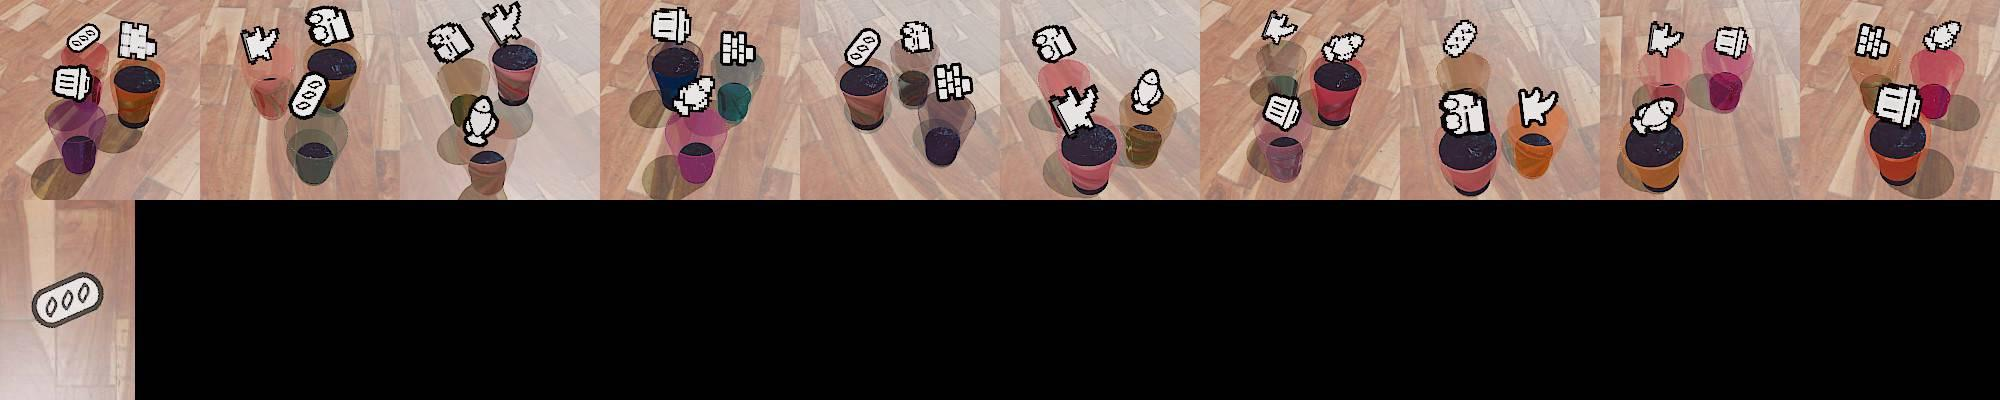icon: (31, 270, 106, 329), (1048, 83, 1099, 136), (1438, 88, 1490, 135), (1875, 83, 1924, 127), (427, 21, 474, 66), (305, 5, 354, 47), (671, 72, 715, 118), (1630, 94, 1679, 134), (481, 2, 523, 47), (463, 94, 499, 145), (289, 72, 328, 119), (1518, 85, 1560, 128), (933, 60, 974, 103), (1033, 24, 1077, 64), (650, 6, 691, 46), (240, 25, 281, 65), (51, 64, 94, 102), (117, 21, 157, 61), (1264, 92, 1304, 131), (1131, 67, 1164, 114), (1320, 31, 1365, 64), (719, 29, 758, 67), (1854, 21, 1892, 60), (844, 27, 881, 67), (1647, 20, 1685, 58), (1442, 19, 1478, 59), (1262, 10, 1299, 48), (1922, 20, 1961, 53), (900, 20, 934, 55), (1714, 25, 1749, 59), (67, 23, 101, 54)
